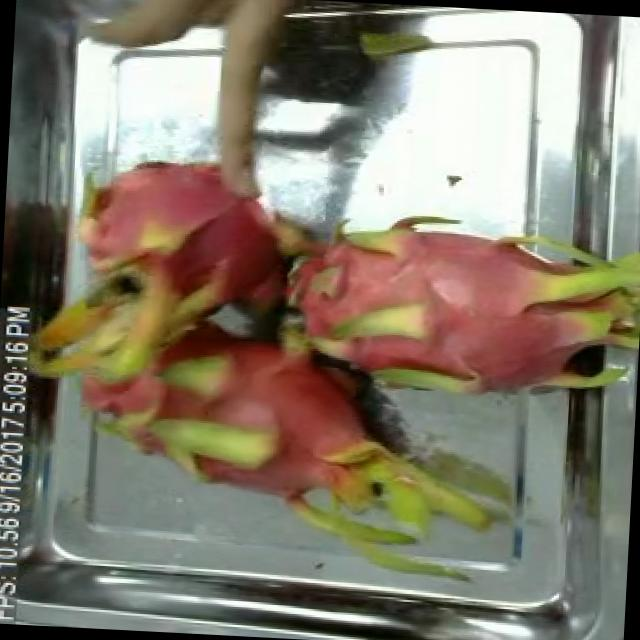Fruit: (51, 136, 257, 304)
